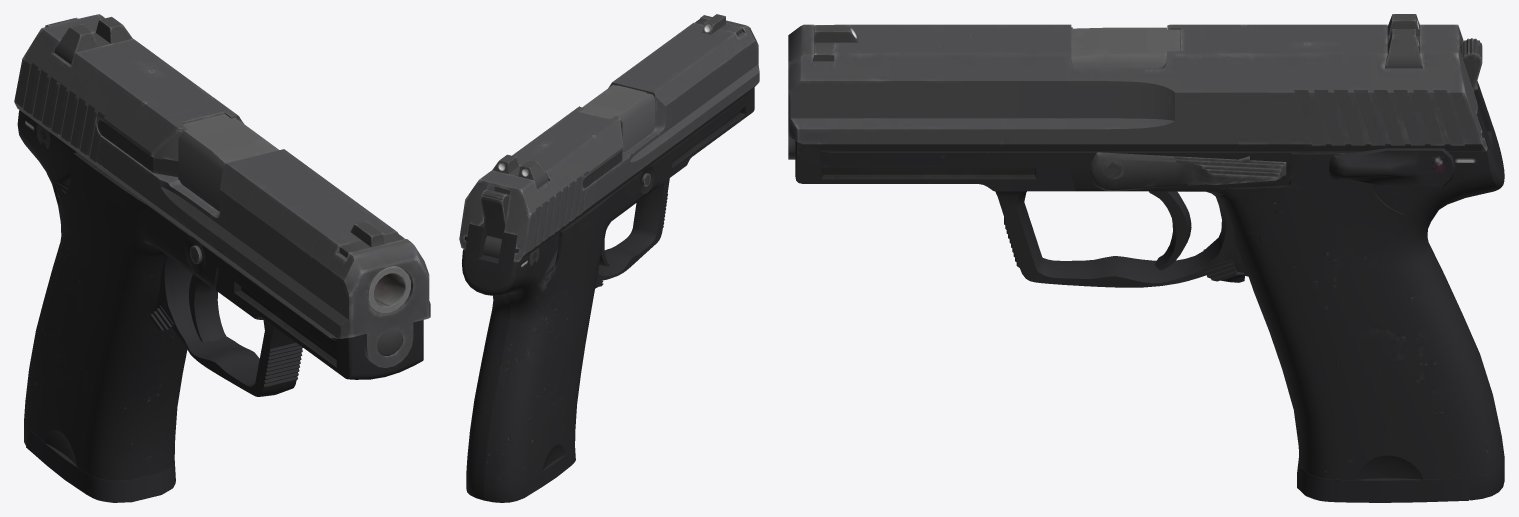
File: h7_service.glb
3 views of the same model, side by side, from view 1: azimuth 30°, elevation 25°; view 2: azimuth 150°, elevation 25°; view 3: azimuth 270°, elevation 25° (orthographic). The views are drawn at different scales.
Visible parts, largest first — view 1: body, slide; view 2: body, slide; view 3: body, slide.
Part boxes in pixels (bbox=[...]): body: bbox=[17, 16, 423, 502]; slide: bbox=[14, 14, 430, 367]; body: bbox=[462, 14, 754, 502]; slide: bbox=[459, 15, 759, 261]; body: bbox=[795, 14, 1504, 502]; slide: bbox=[788, 24, 1487, 159].
Size of the model in its own units: 0.0325 by 0.1371 by 0.195.
Materials: 1 (1 with a texture image).
